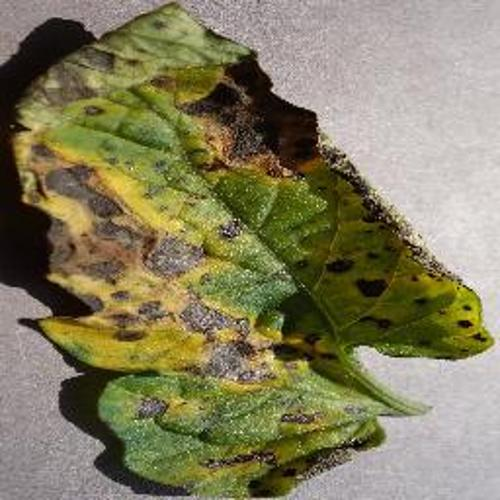Tomato: (15, 3, 492, 500)
